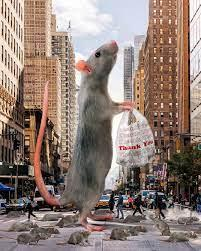rat: (35, 40, 133, 229)
